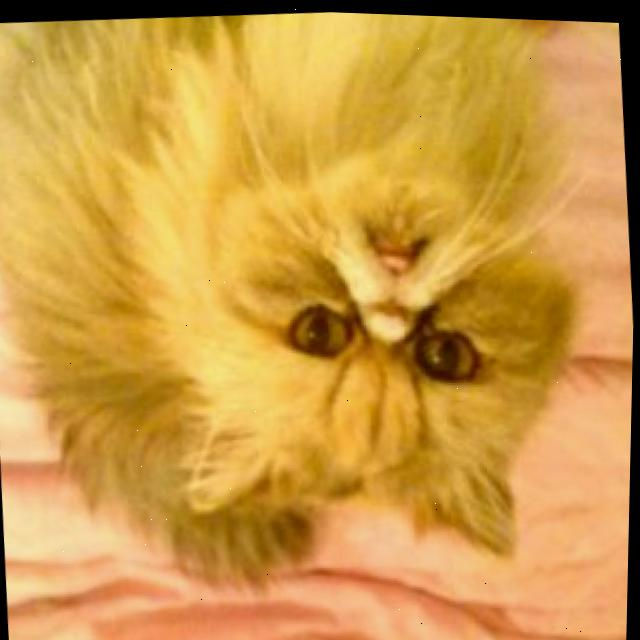Persian: (0, 0, 611, 627)
